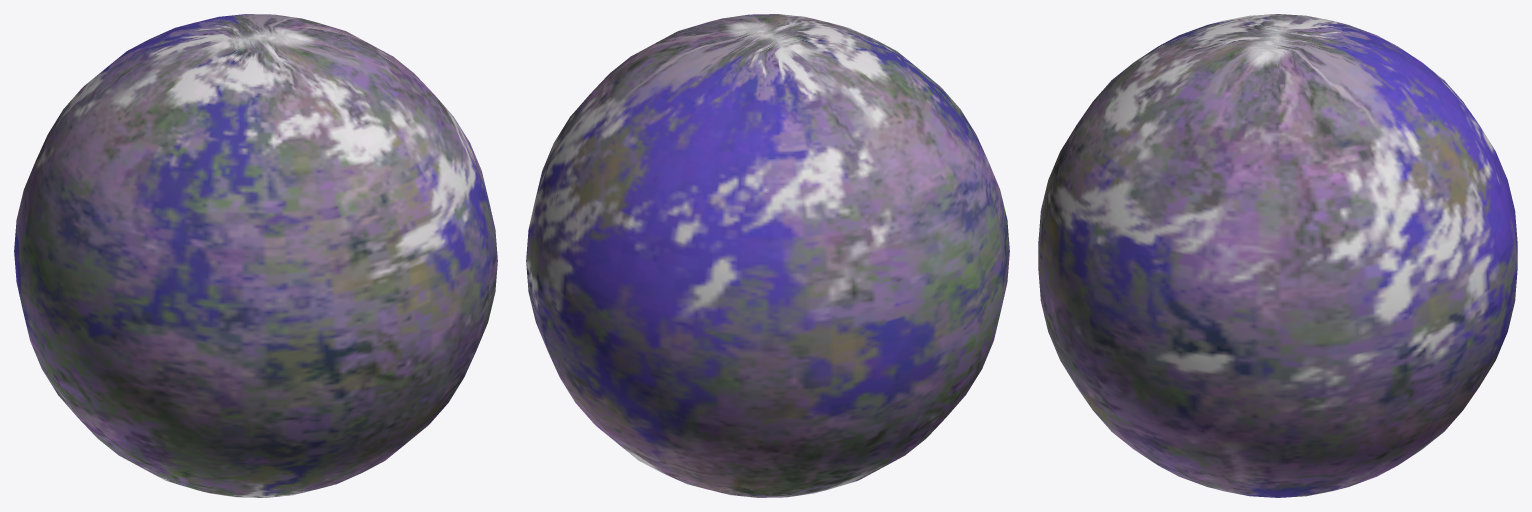
File: ui_planet_sel_dant.fbx
3 views of the same model, side by side, from view 1: azimuth 30°, elevation 25°; view 2: azimuth 150°, elevation 25°; view 3: azimuth 270°, elevation 25° (orthographic).
Parts seen in each view (by area): view 1: mesh_node; view 2: mesh_node; view 3: mesh_node.
Part boxes in pixels (box(x1,y1,x2,y2)): mesh_node: box(14, 14, 497, 497); mesh_node: box(526, 14, 1009, 497); mesh_node: box(1038, 14, 1517, 497).
Size of the model in its own units: 2 by 2 by 1.98.
